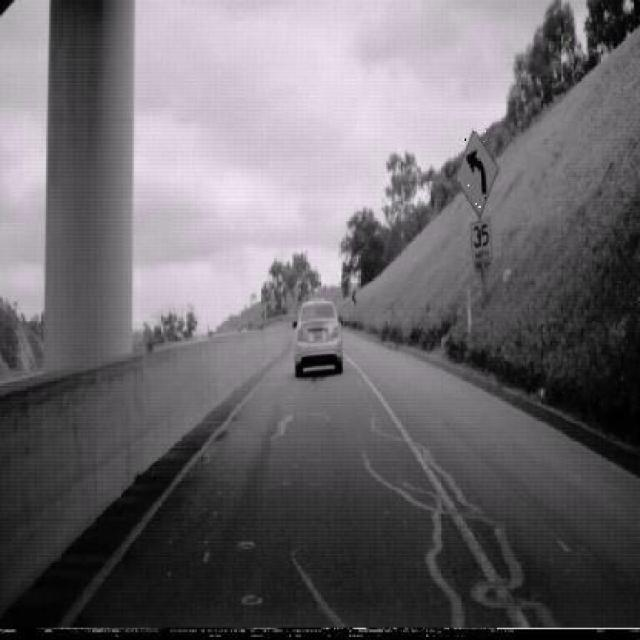curveLeft: (454, 129, 498, 222)
